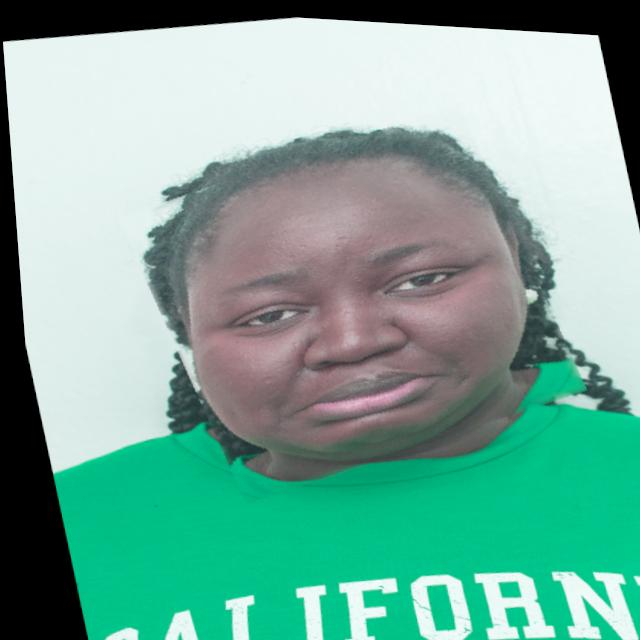sad: (113, 94, 583, 505)
